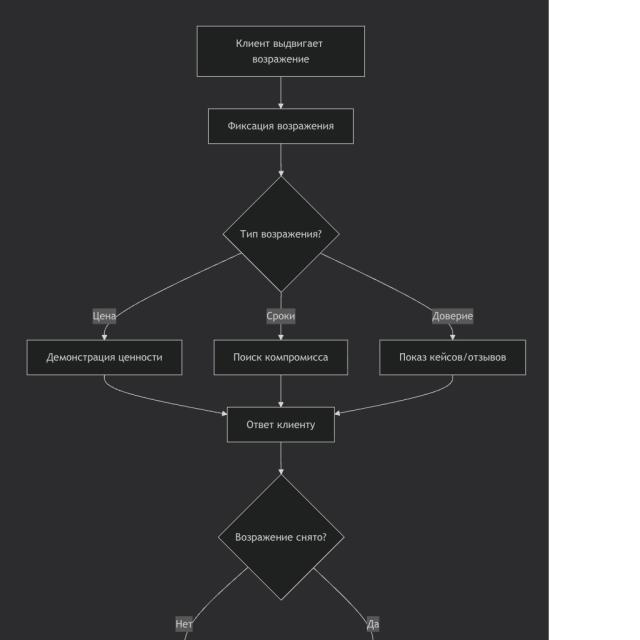arrow: (101, 252, 242, 340), (321, 252, 456, 340), (104, 377, 226, 418), (334, 375, 454, 415), (278, 292, 284, 340), (278, 144, 284, 178), (278, 78, 284, 109), (278, 376, 284, 406), (278, 444, 284, 474)
diamond: (219, 475, 343, 599), (224, 177, 338, 291)
rectangle: (197, 26, 364, 77), (27, 340, 182, 375), (208, 108, 353, 144), (380, 340, 526, 375), (214, 340, 348, 376), (227, 407, 335, 443)
